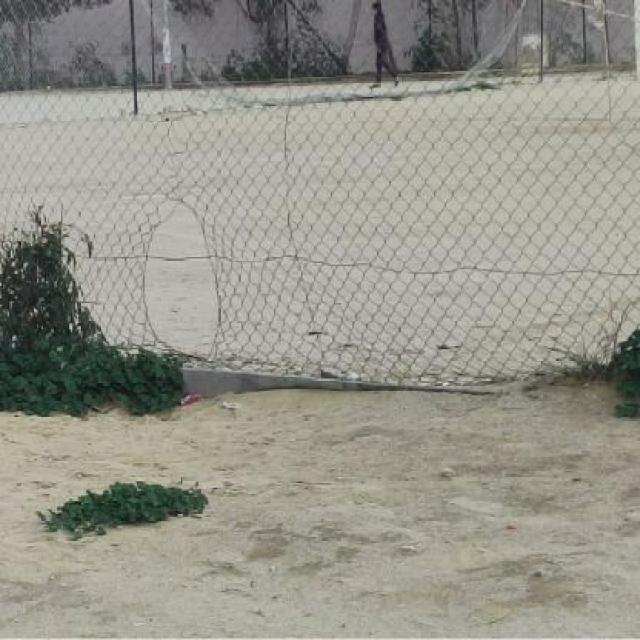fence line: (140, 196, 232, 367)
